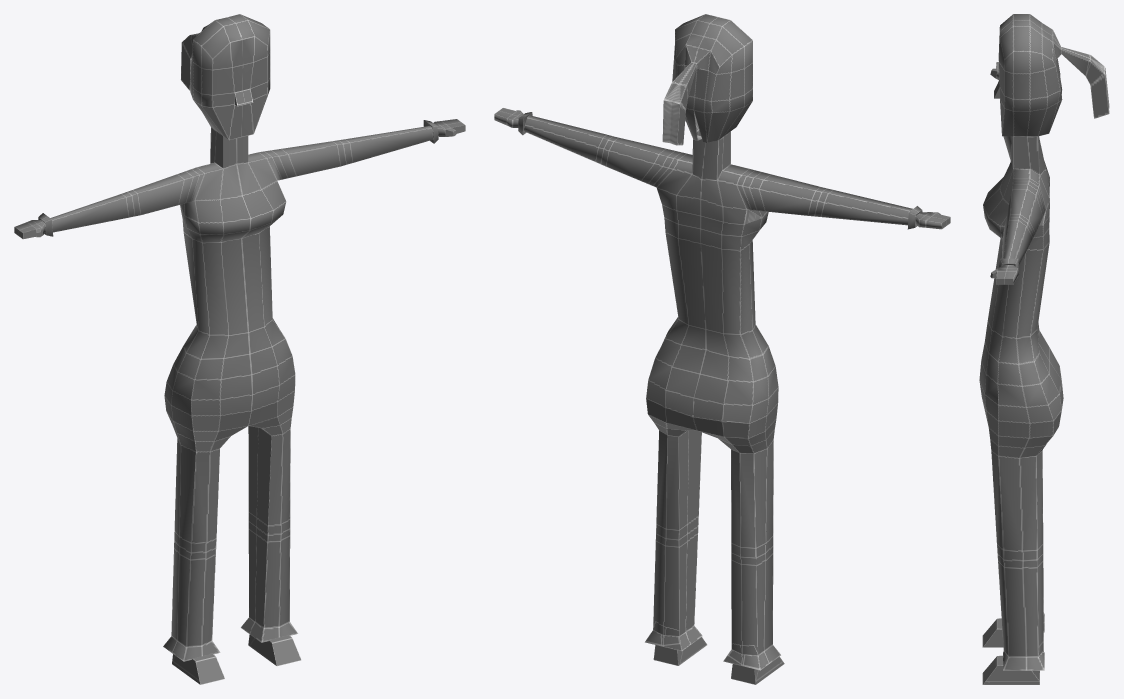
File: SM_Lady.fbx
The picture shows the model from 3 angles, left to right: view 1: azimuth 30°, elevation 25°; view 2: azimuth 150°, elevation 25°; view 3: azimuth 270°, elevation 25°; orthographic projection.
Visible parts, largest first — view 1: pCube11; view 2: pCube11; view 3: pCube11.
Part boxes in pixels (<box>): pCube11: <box>14,14,465,684</box>; pCube11: <box>494,14,950,684</box>; pCube11: <box>979,14,1109,684</box>.
Bounding box in the file's own units: 94.34 × 130 × 23.95.
